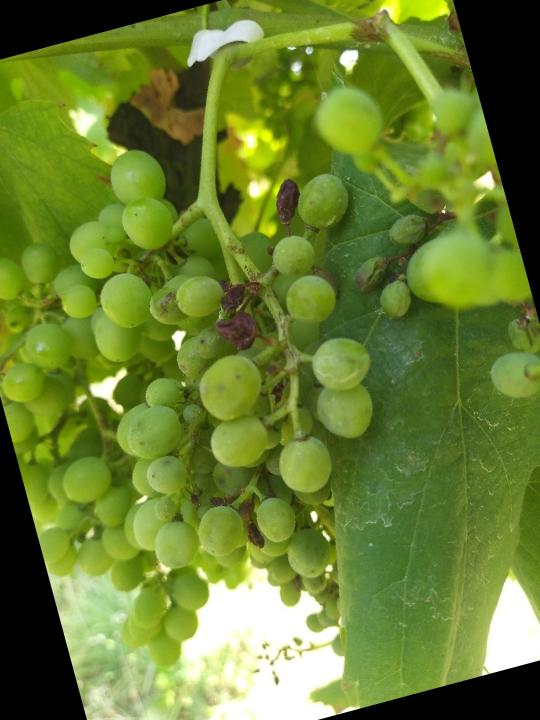grape: (42, 95, 445, 624)
